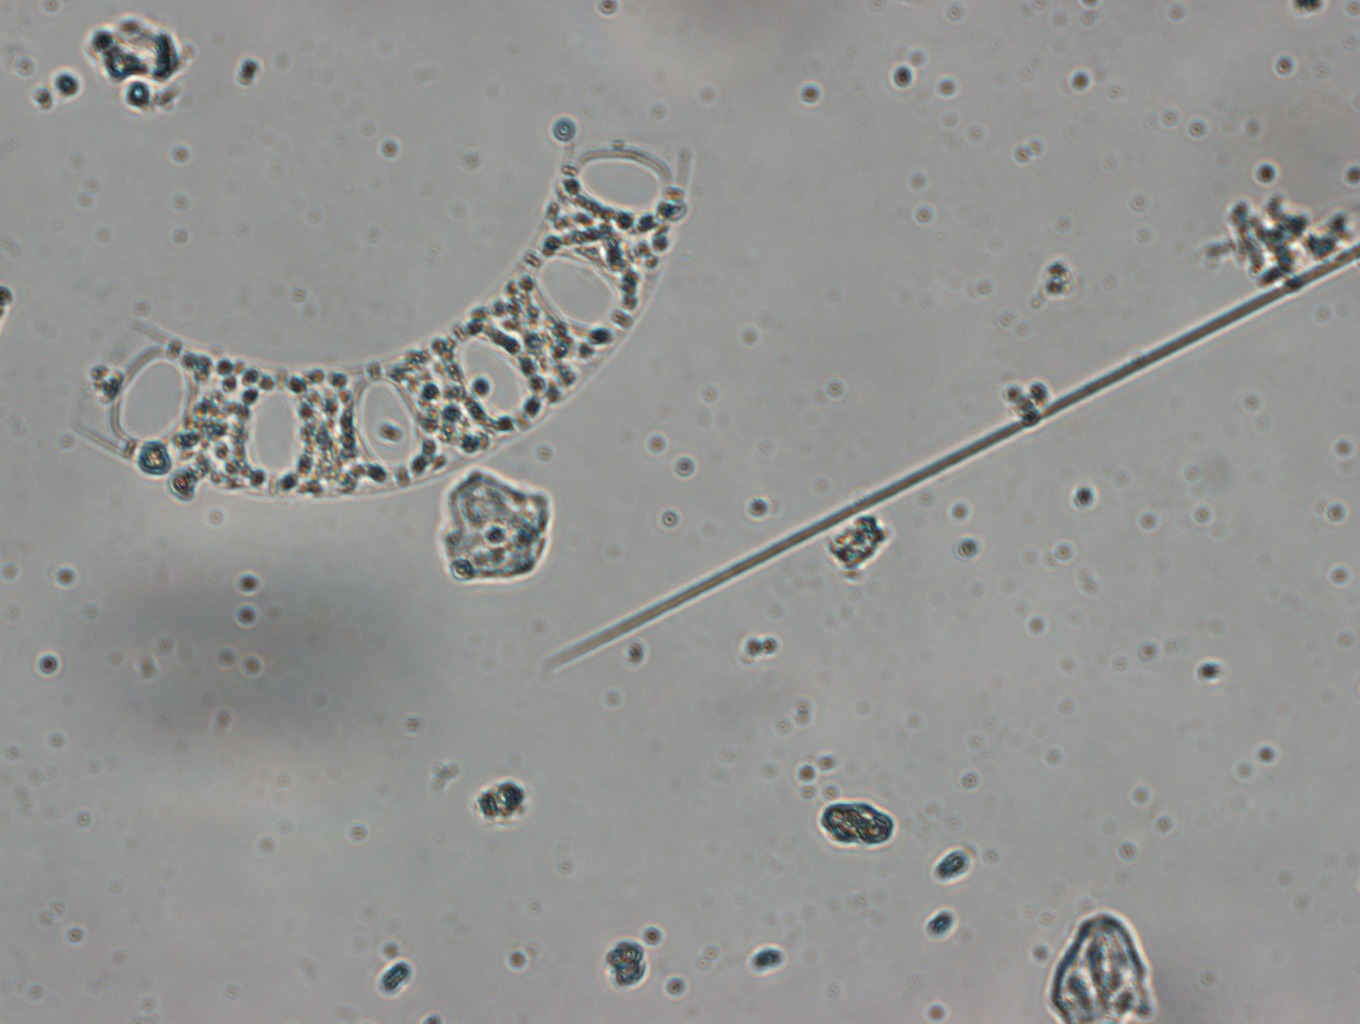eucampia: (61, 118, 697, 518)
